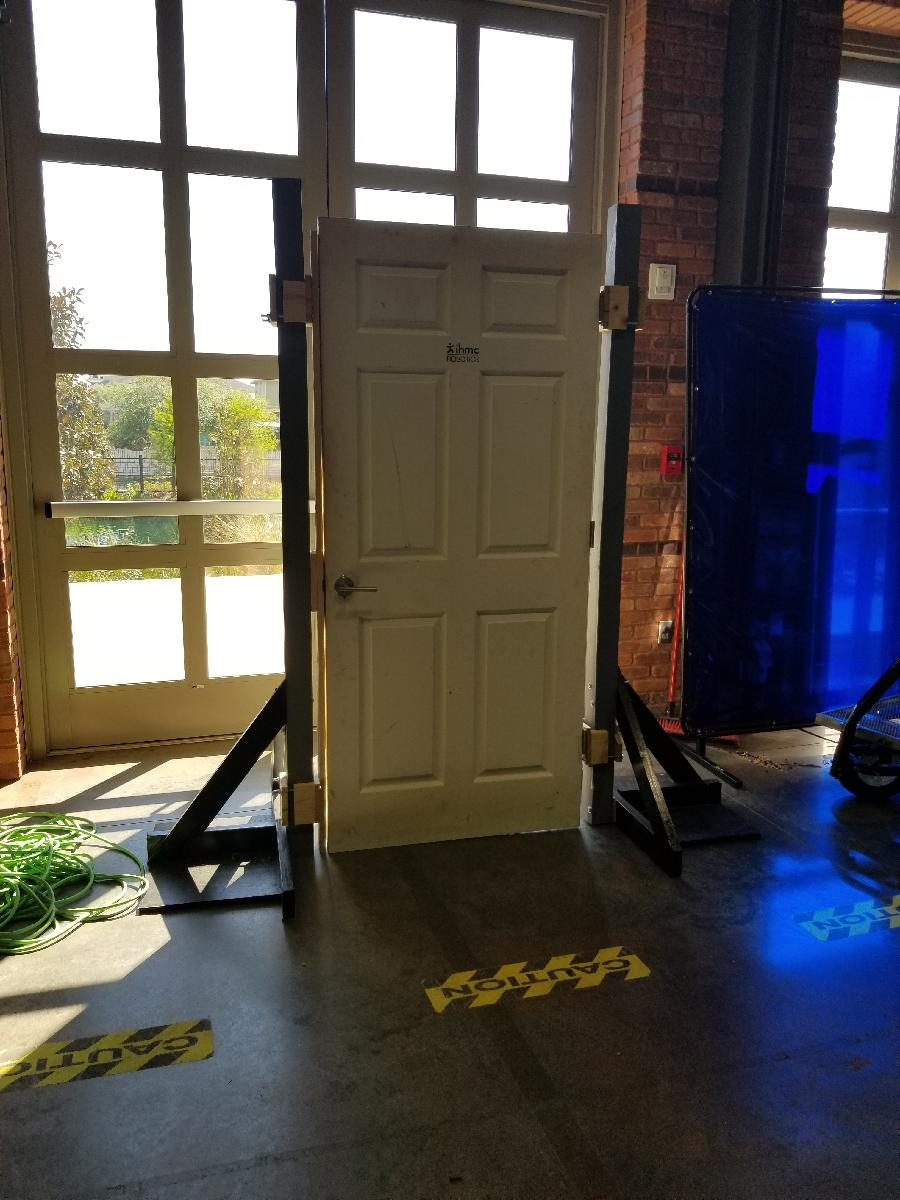door: (313, 214, 610, 865)
doorHandle: (333, 577, 386, 605)
